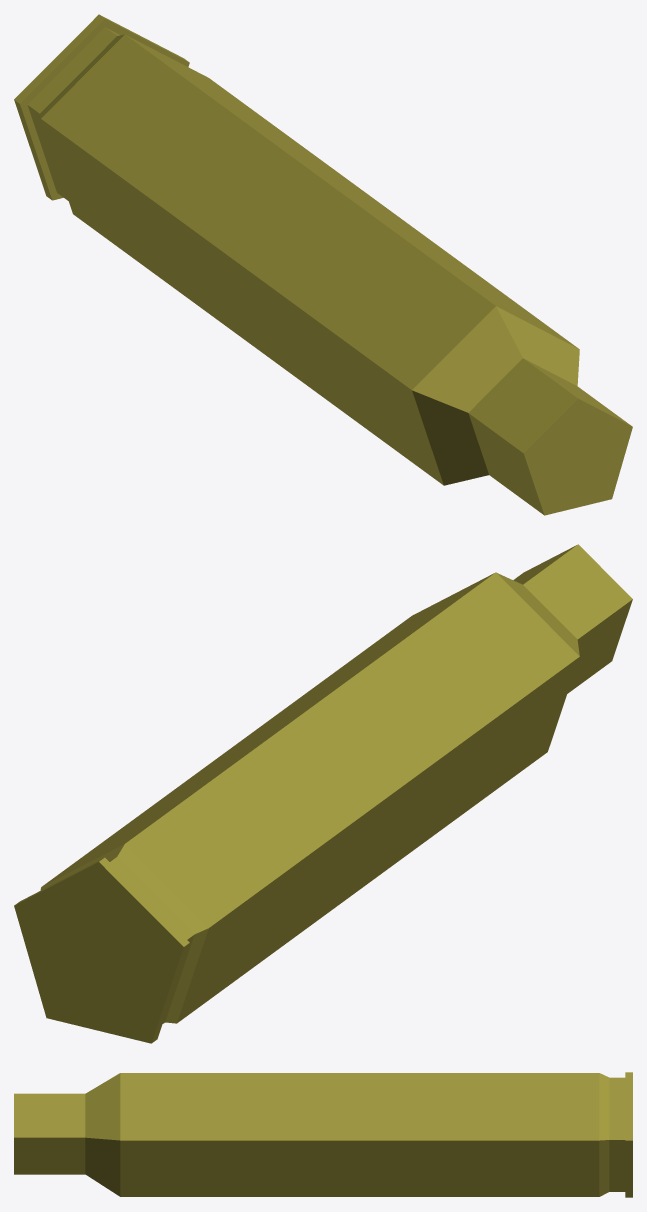
The picture shows the model from 3 angles, top to bottom: view 1: azimuth 30°, elevation 25°; view 2: azimuth 150°, elevation 25°; view 3: azimuth 270°, elevation 25°; orthographic projection. The views are drawn at different scales.
Visible parts, largest first — view 1: 5,56x45; view 2: 5,56x45; view 3: 5,56x45.
Part boxes in pixels (bbox=[...]): 5,56x45: bbox=[14, 14, 632, 515]; 5,56x45: bbox=[14, 544, 632, 1043]; 5,56x45: bbox=[14, 1072, 632, 1197].
Size of the model in its own units: 0.7118 by 0.6771 by 3.48.
Materials: 1 (1 with a texture image).
